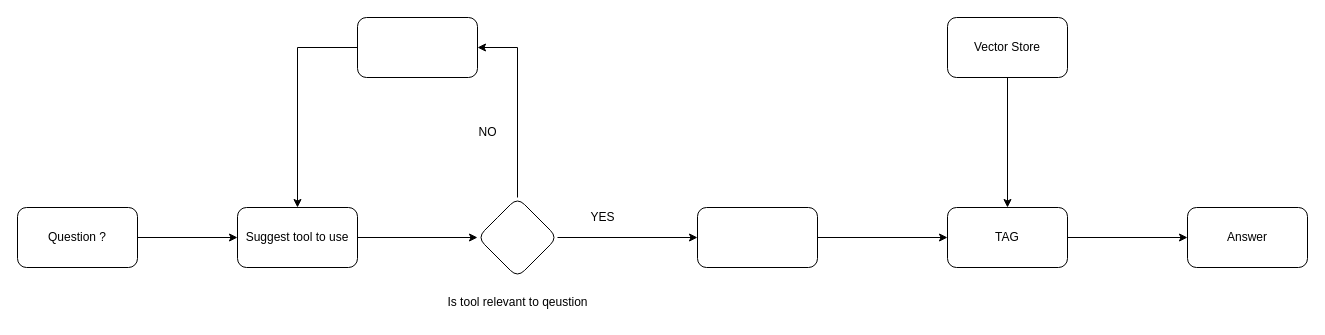
Image size: 1325x335. Some labels were removed from this diagram. Each missing label, with the centre of its shape:
"Suggest new question" goes at point (417, 47).
"Tool" goes at point (757, 237).
